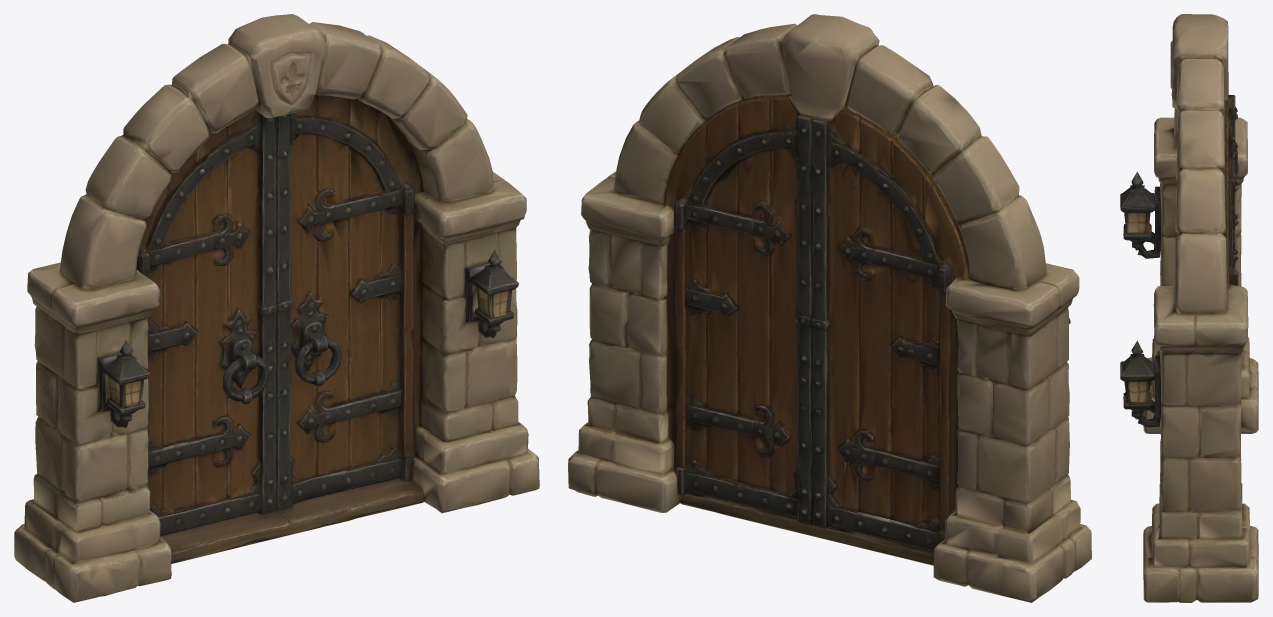
The model's file is mod_door_c.glb.
3 renders of one model, left to right at view 1: azimuth 30°, elevation 25°; view 2: azimuth 150°, elevation 25°; view 3: azimuth 270°, elevation 25°, orthographic. The views are drawn at different scales.
Parts seen in each view (by area): view 1: tripo_node_b7fdf179-9370-4092-b14c-b3e3be84e0d9; view 2: tripo_node_b7fdf179-9370-4092-b14c-b3e3be84e0d9; view 3: tripo_node_b7fdf179-9370-4092-b14c-b3e3be84e0d9.
Part boxes in pixels (x1,y1,x2,y2): tripo_node_b7fdf179-9370-4092-b14c-b3e3be84e0d9: (14, 14, 539, 602); tripo_node_b7fdf179-9370-4092-b14c-b3e3be84e0d9: (568, 14, 1091, 602); tripo_node_b7fdf179-9370-4092-b14c-b3e3be84e0d9: (1120, 14, 1258, 602).
Bounding box in the file's own units: 0.9586 × 0.9786 × 0.26.
Materials: 1 (1 with a texture image).
